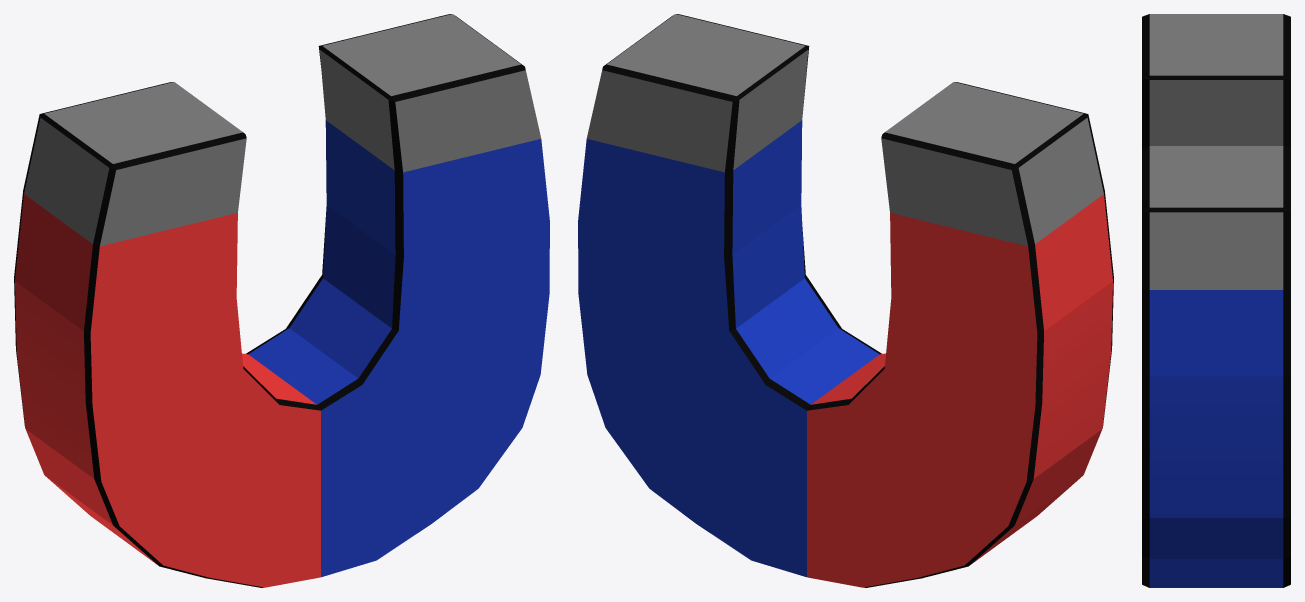
File: magnet_150423.fbx
3 views of the same model, side by side, from view 1: azimuth 30°, elevation 25°; view 2: azimuth 150°, elevation 25°; view 3: azimuth 270°, elevation 25° (orthographic). The views are drawn at different scales.
Parts seen in each view (by area): view 1: magnet; view 2: magnet; view 3: magnet.
Part boxes in pixels (left/top/right/bottom): magnet: left=14, top=14, right=549, bottom=587; magnet: left=578, top=14, right=1113, bottom=587; magnet: left=1142, top=14, right=1290, bottom=587.
Size of the model in its own units: 1.72 by 1.64 by 0.4916.
1 material, 1 textured.
